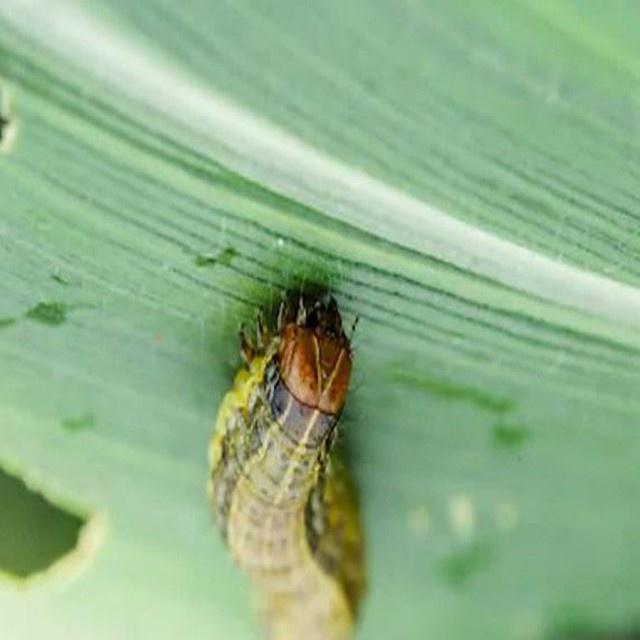Plaga: (209, 280, 370, 640)
